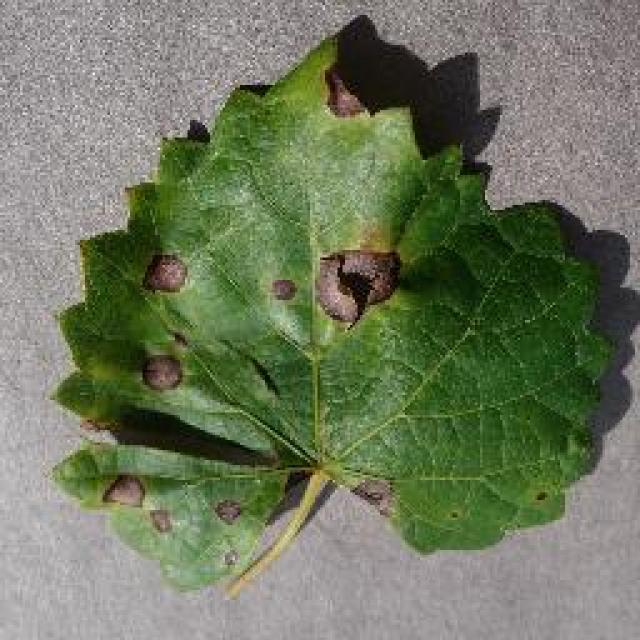Grape___Black_rot: (38, 29, 626, 600)
